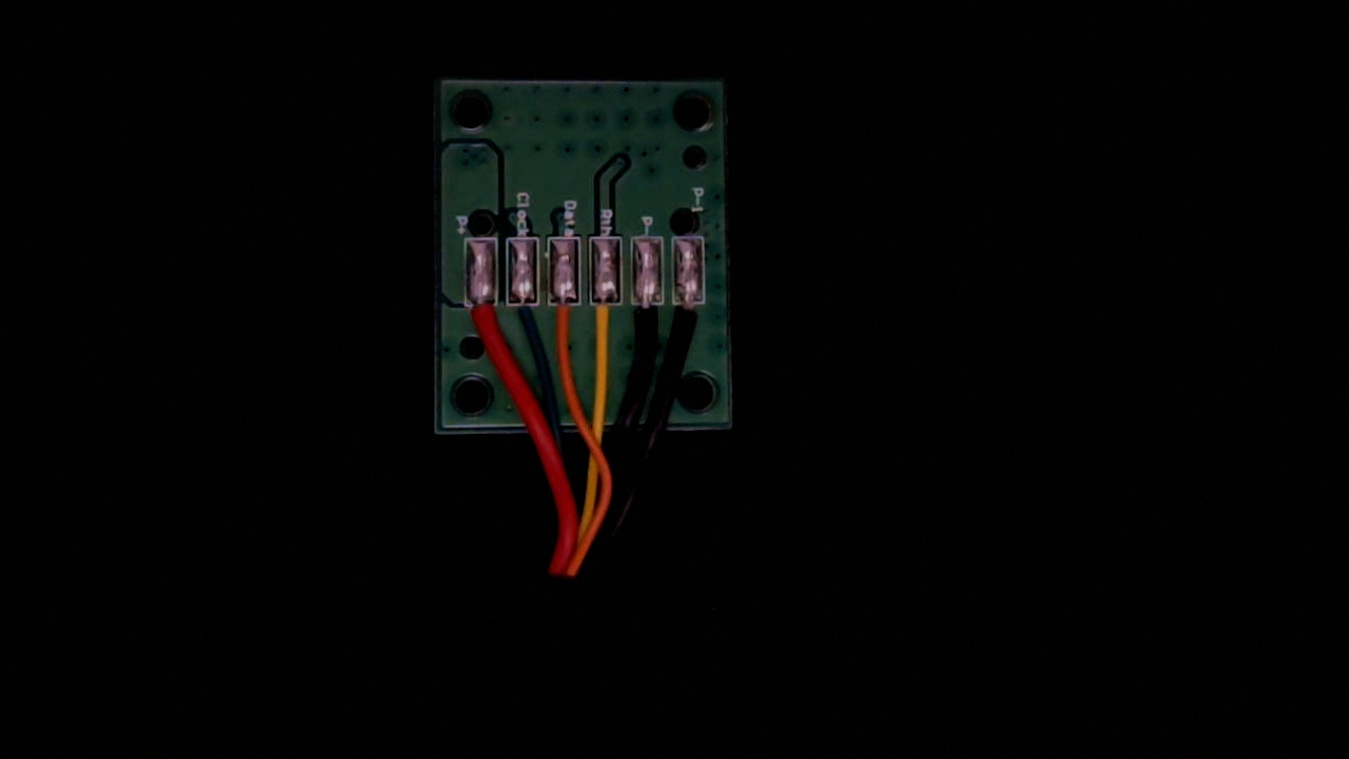Black: (626, 290, 666, 357)
Black1: (672, 288, 708, 360)
Green: (507, 285, 542, 353)
Orange: (547, 287, 581, 364)
Red: (461, 288, 498, 363)
Yellow: (588, 287, 623, 356)
